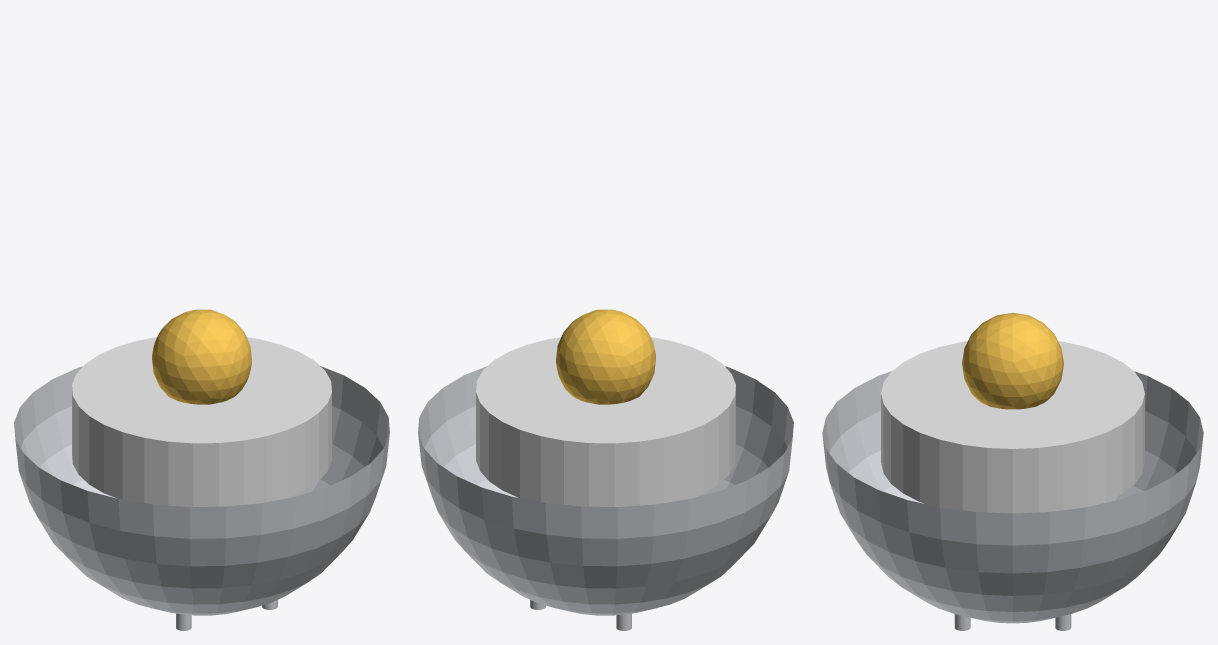
File: Pegs.glb
3 renders of one model, left to right at view 1: azimuth 30°, elevation 25°; view 2: azimuth 150°, elevation 25°; view 3: azimuth 270°, elevation 25°, orthographic.
Visible parts, largest first — view 1: Sphere.001, Cylinder.011, Icosphere.001; view 2: Sphere.001, Cylinder.011, Icosphere.001; view 3: Sphere.001, Cylinder.011, Icosphere.001.
Boxes of the visible parts, box(x1,y1,x2,y2) form: Sphere.001: box(14, 366, 389, 615); Cylinder.011: box(72, 337, 331, 506); Icosphere.001: box(152, 309, 251, 404); Sphere.001: box(418, 366, 793, 615); Cylinder.011: box(476, 337, 735, 506); Icosphere.001: box(556, 309, 655, 404); Sphere.001: box(822, 371, 1203, 623); Cylinder.011: box(881, 341, 1144, 513); Icosphere.001: box(962, 312, 1063, 409).
Size of the model in its own units: 2 by 2.96 by 2.
